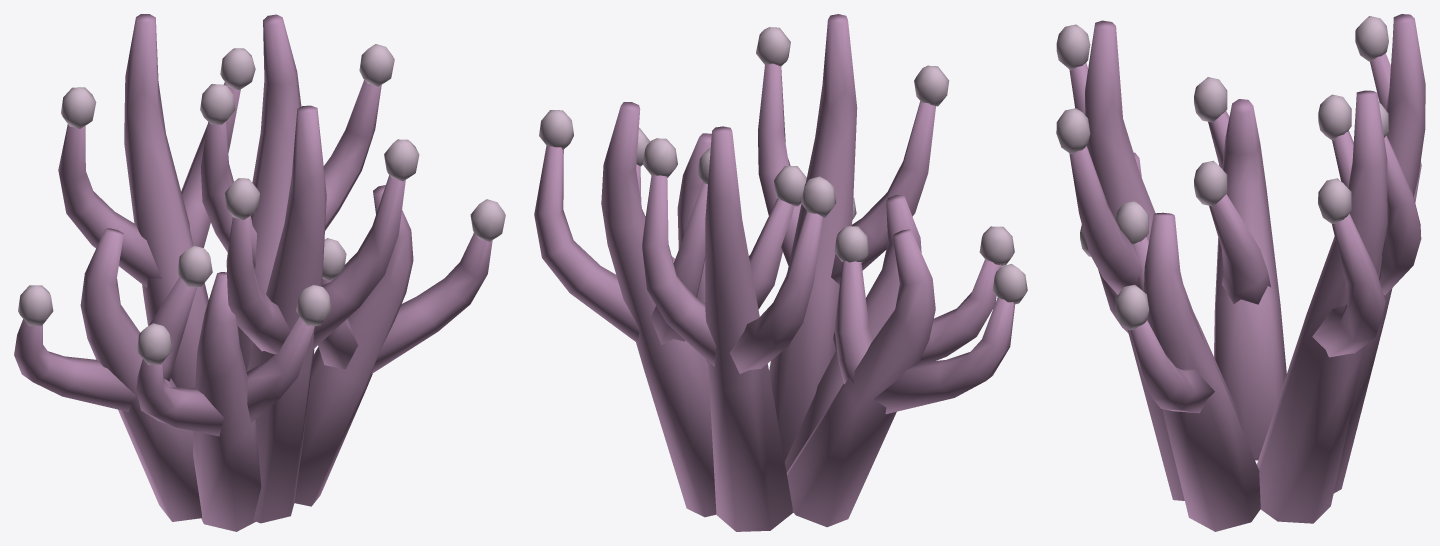
Rendered from reef_coral_1.glb.
The picture shows the model from 3 angles, left to right: view 1: azimuth 30°, elevation 25°; view 2: azimuth 150°, elevation 25°; view 3: azimuth 270°, elevation 25°; orthographic projection. The views are drawn at different scales.
Visible parts, largest first — view 1: reef_coral_1_painted_mesh; view 2: reef_coral_1_painted_mesh; view 3: reef_coral_1_painted_mesh.
Boxes of the visible parts, bbox=[...] form: reef_coral_1_painted_mesh: bbox=[14, 14, 505, 531]; reef_coral_1_painted_mesh: bbox=[534, 14, 1027, 531]; reef_coral_1_painted_mesh: bbox=[1056, 14, 1425, 531].
Size of the model in its own units: 1.4 by 1.32 by 0.9319.
